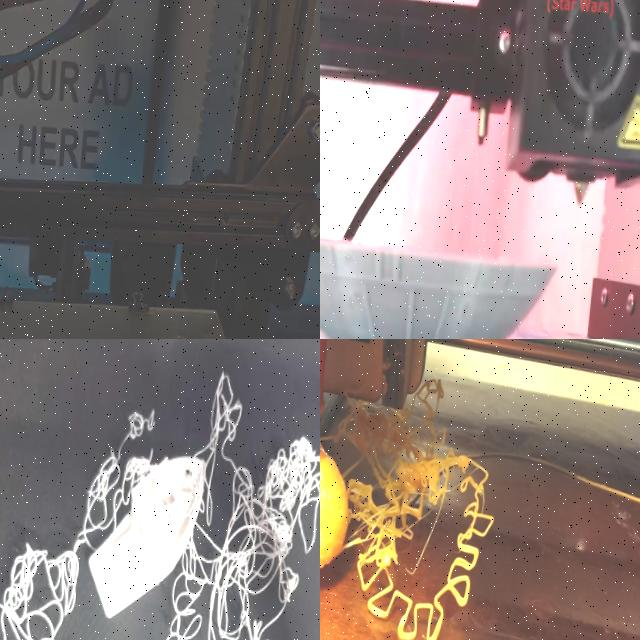spaghetti: (0, 361, 320, 640), (320, 407, 515, 640)
